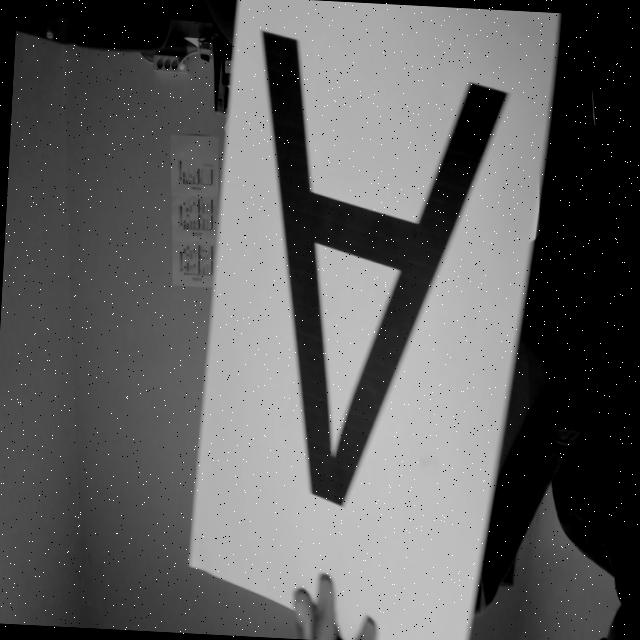a: (215, 8, 521, 538)
